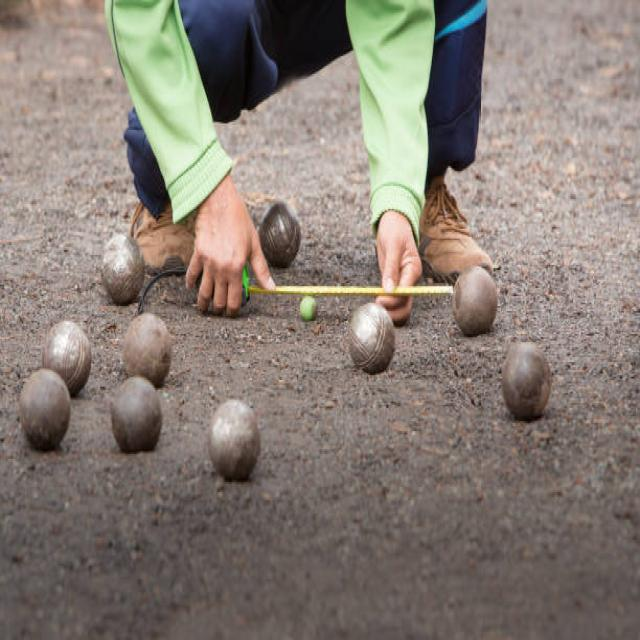hatball: (293, 294, 322, 332)
petanque: (16, 364, 82, 455), (204, 398, 266, 488), (109, 373, 167, 464), (498, 340, 556, 429), (41, 314, 100, 397), (344, 300, 398, 383), (93, 230, 146, 313), (120, 308, 176, 386), (252, 194, 304, 275), (450, 263, 504, 337)
